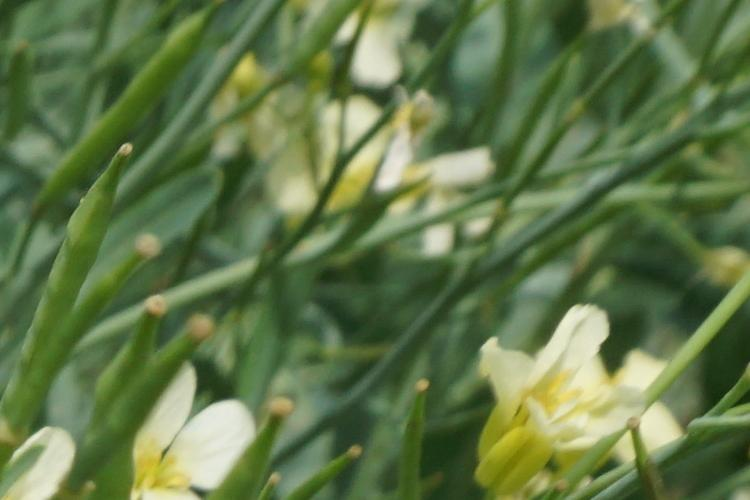pod: (18, 106, 131, 379), (66, 286, 173, 417), (96, 305, 218, 416), (181, 377, 294, 492), (41, 207, 161, 312), (390, 368, 449, 487), (276, 437, 373, 495), (631, 410, 679, 493)
white: (440, 297, 680, 476), (105, 369, 267, 489)
